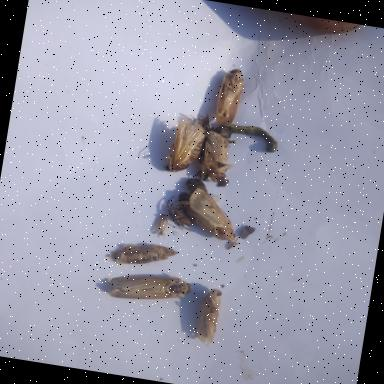abw: (168, 185, 242, 243), (102, 264, 195, 310), (212, 64, 246, 128), (190, 284, 224, 344)
pbw: (154, 212, 168, 237)
